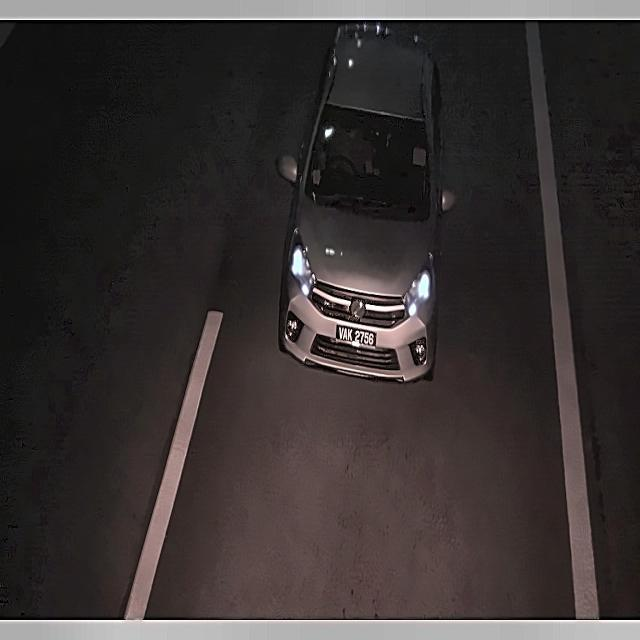car: (333, 317, 377, 354)
